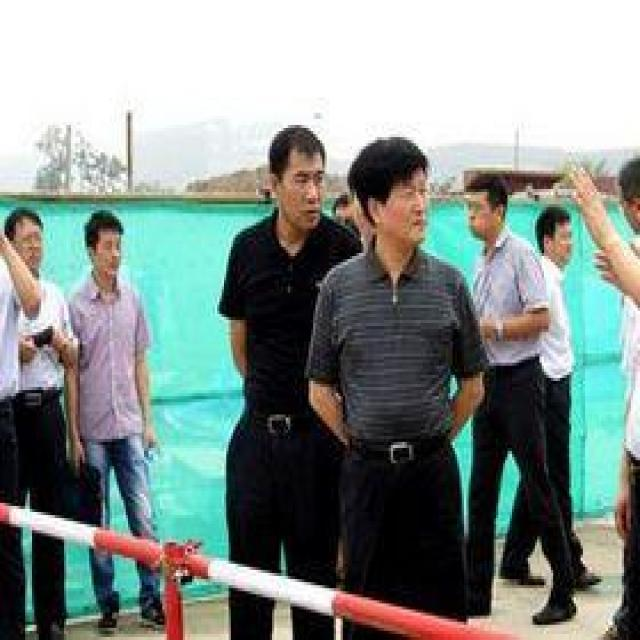nothing: (343, 132, 442, 215), (264, 119, 328, 193), (451, 157, 514, 227), (530, 202, 582, 258), (80, 198, 126, 254), (0, 201, 48, 247)
